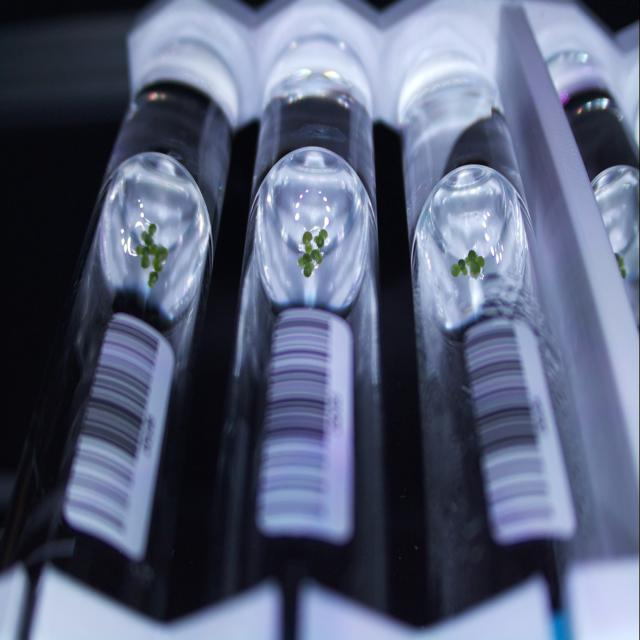Lemna-Gibba: (459, 250, 485, 278), (150, 243, 169, 279), (135, 243, 152, 269), (298, 252, 314, 277), (141, 223, 156, 248), (299, 230, 312, 254), (451, 259, 468, 277), (314, 228, 328, 248), (310, 250, 324, 265), (148, 270, 159, 289)
